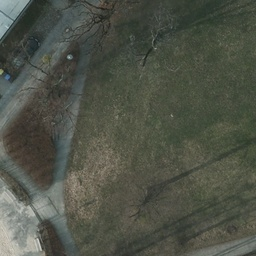car: (10, 36, 39, 68)
